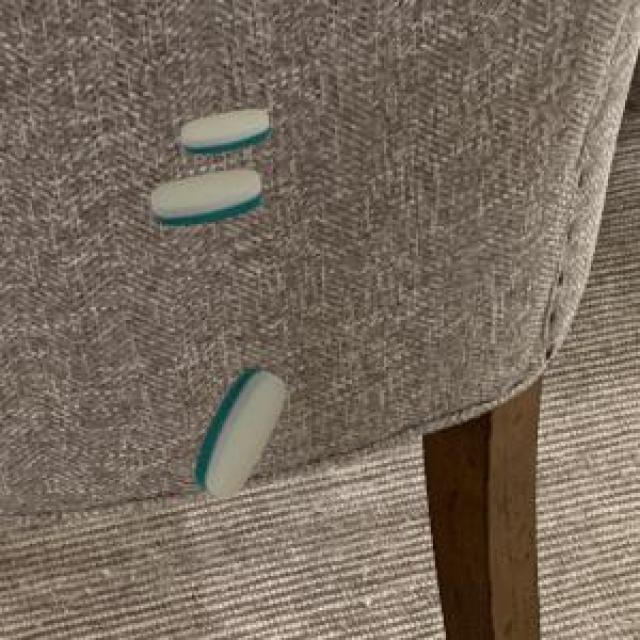Neozep: (183, 356, 291, 511), (140, 163, 270, 243), (169, 106, 280, 159)
